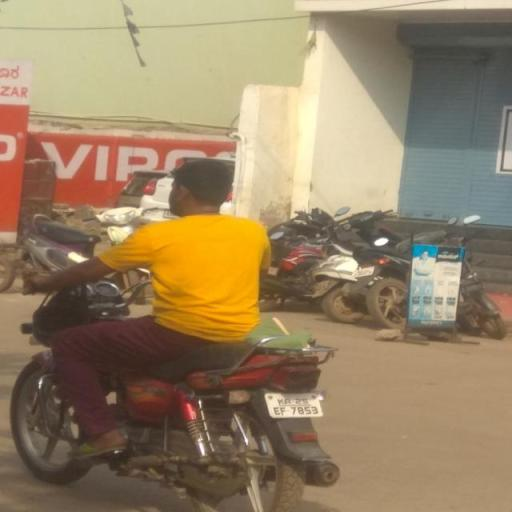bike: (10, 146, 348, 510)
numberplate: (265, 391, 323, 418)
withouthelmet: (174, 161, 228, 211)
